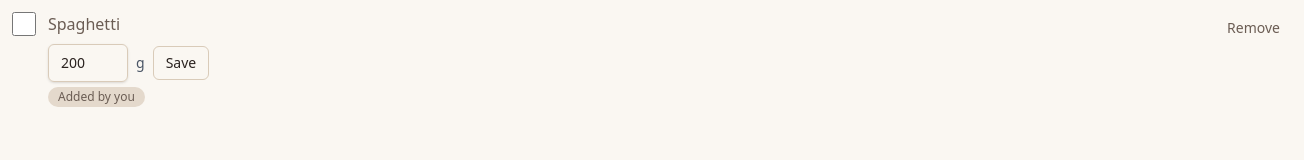
Test: ShoppingListItemRow › quantity edit (TEST-154) › rejects a quantity that is empty, with a message on the field, and keeps the previous value (AC3)
Step 1. Clear the number field named "quantity for spaghetti" → (88, 63), box [48,44,128,82]
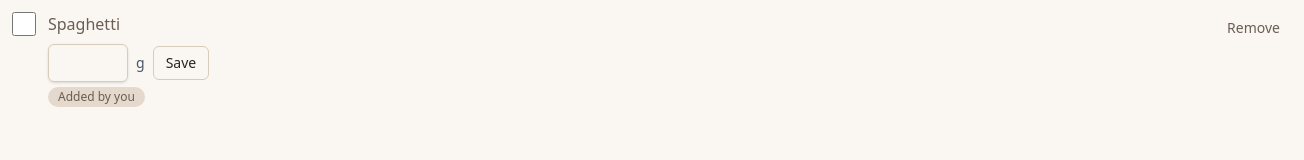
Step 2. Click the button "Save" → (181, 63), box [153,46,209,80]
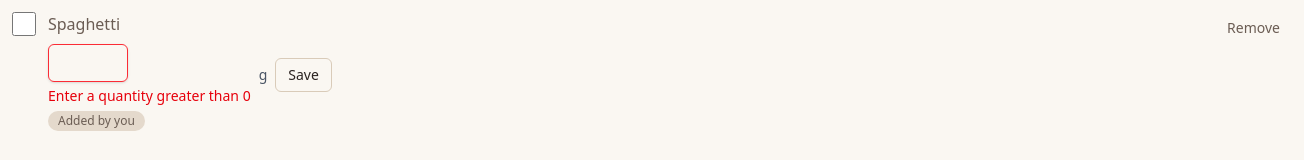
Expected: the text "Enter a quantity greater than 0" is shown, [48,86,251,106]
